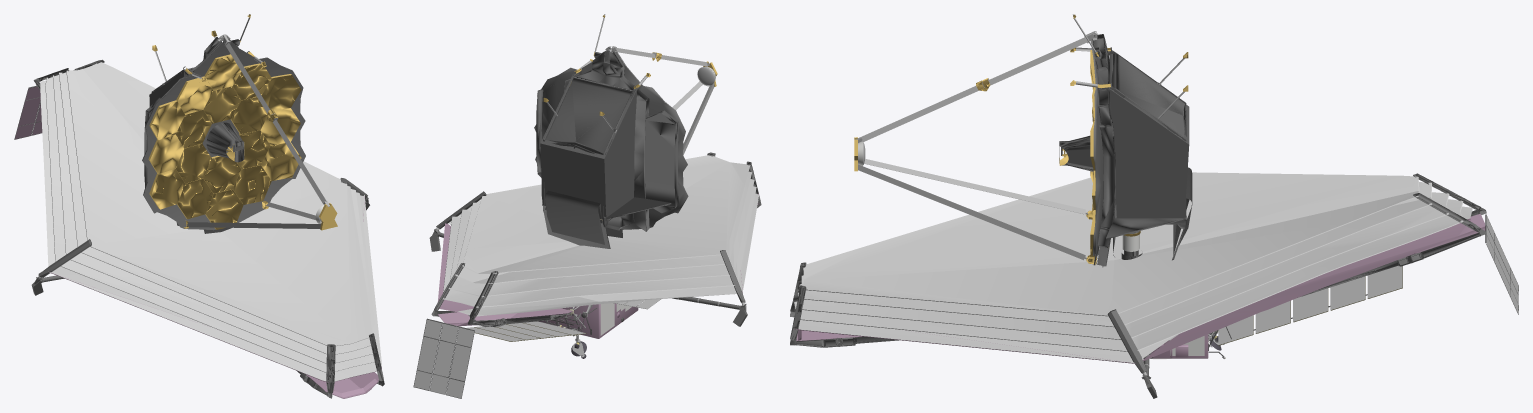
Rendered from JWST (with Instruments).glb.
3 renders of one model, left to right at view 1: azimuth 30°, elevation 25°; view 2: azimuth 150°, elevation 25°; view 3: azimuth 270°, elevation 25°, orthographic. The views are drawn at different scales.
Visible parts, largest first — view 1: meshId13_name, meshId29_name, meshId16_name, meshId8_name, meshId15_name, meshId14_name, meshId3_name, meshId17_name, meshId10_name, meshId9_name, meshId4_name, meshId30_name (+1 smaller); view 2: meshId3_name, meshId13_name, meshId16_name, meshId8_name, meshId24_name, meshId15_name, meshId14_name, meshId6_name, meshId10_name, meshId12_name, meshId9_name, meshId17_name (+2 smaller); view 3: meshId13_name, meshId3_name, meshId16_name, meshId15_name, meshId14_name, meshId8_name, meshId17_name, meshId24_name, meshId9_name, meshId10_name, meshId29_name, meshId30_name.
Boxes of the visible parts, bbox=[...] form: meshId13_name: bbox=[66, 62, 372, 345]; meshId29_name: bbox=[150, 14, 301, 229]; meshId16_name: bbox=[40, 69, 381, 381]; meshId8_name: bbox=[14, 14, 384, 398]; meshId15_name: bbox=[52, 67, 375, 363]; meshId14_name: bbox=[59, 63, 373, 354]; meshId3_name: bbox=[144, 37, 249, 233]; meshId17_name: bbox=[49, 196, 381, 398]; meshId10_name: bbox=[38, 18, 366, 278]; meshId9_name: bbox=[187, 34, 329, 228]; meshId4_name: bbox=[15, 86, 42, 139]; meshId30_name: bbox=[148, 54, 291, 229]; meshId3_name: bbox=[536, 50, 678, 332]; meshId13_name: bbox=[462, 155, 750, 273]; meshId16_name: bbox=[442, 186, 758, 316]; meshId8_name: bbox=[413, 14, 761, 398]; meshId24_name: bbox=[414, 67, 714, 398]; meshId15_name: bbox=[448, 179, 754, 297]; meshId14_name: bbox=[455, 171, 751, 283]; meshId6_name: bbox=[538, 303, 638, 338]; meshId10_name: bbox=[435, 17, 744, 328]; meshId12_name: bbox=[437, 308, 572, 326]; meshId9_name: bbox=[572, 46, 714, 357]; meshId17_name: bbox=[438, 193, 758, 311]; meshId13_name: bbox=[803, 172, 1419, 316]; meshId3_name: bbox=[1059, 34, 1231, 358]; meshId16_name: bbox=[794, 199, 1472, 363]; meshId15_name: bbox=[799, 192, 1449, 339]; meshId14_name: bbox=[801, 182, 1432, 327]; meshId8_name: bbox=[790, 14, 1518, 398]; meshId17_name: bbox=[794, 218, 1473, 363]; meshId24_name: bbox=[863, 142, 1518, 345]; meshId9_name: bbox=[855, 31, 1220, 345]; meshId10_name: bbox=[861, 18, 1225, 375]; meshId29_name: bbox=[976, 14, 1188, 264]; meshId30_name: bbox=[1090, 50, 1095, 255].
Bounding box in the file's own units: 0.1287 × 0.1126 × 0.21.
